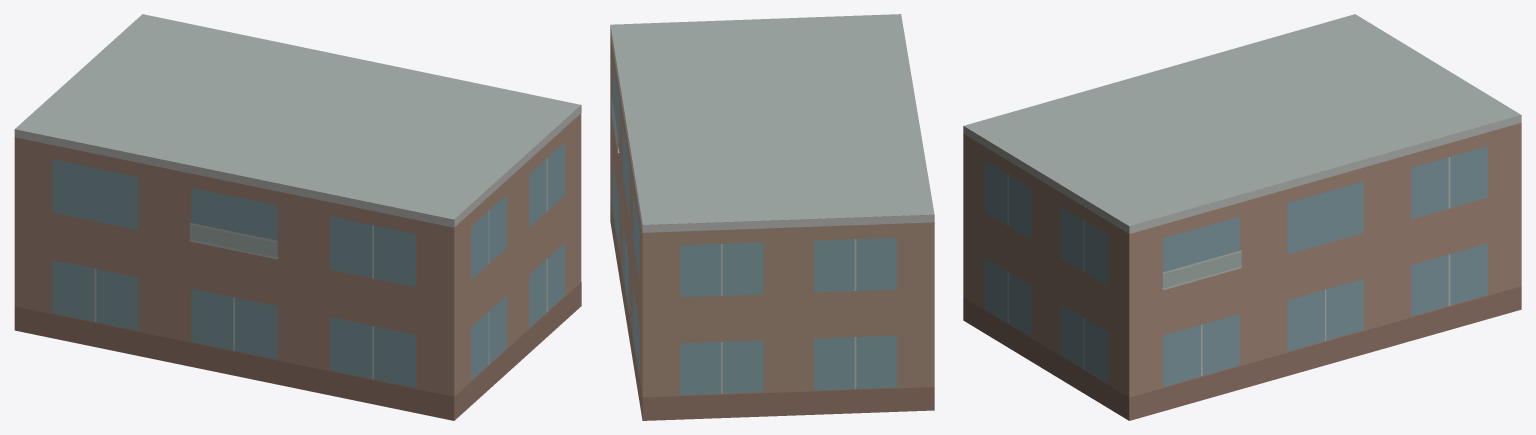
The model's file is survey-upis-32885902.glb.
3 renders of one model, left to right at view 1: azimuth 30°, elevation 25°; view 2: azimuth 150°, elevation 25°; view 3: azimuth 270°, elevation 25°, orthographic. The views are drawn at different scales.
Visible parts, largest first — view 1: survey-upis-32885902.tmp; view 2: survey-upis-32885902.tmp; view 3: survey-upis-32885902.tmp.
Boxes of the visible parts, x1,y1,x2,y2 form: survey-upis-32885902.tmp: [14, 14, 581, 420]; survey-upis-32885902.tmp: [610, 14, 934, 420]; survey-upis-32885902.tmp: [963, 14, 1521, 420].
Bounding box in the file's own units: 14.28 × 6.1 × 15.87.
